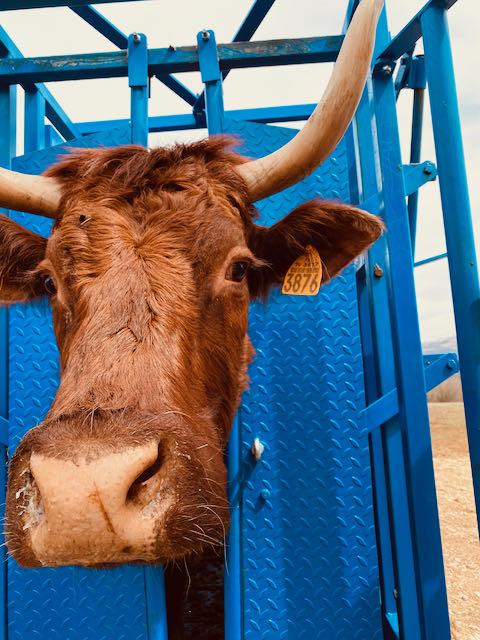muzzles: (2, 444, 239, 575)
